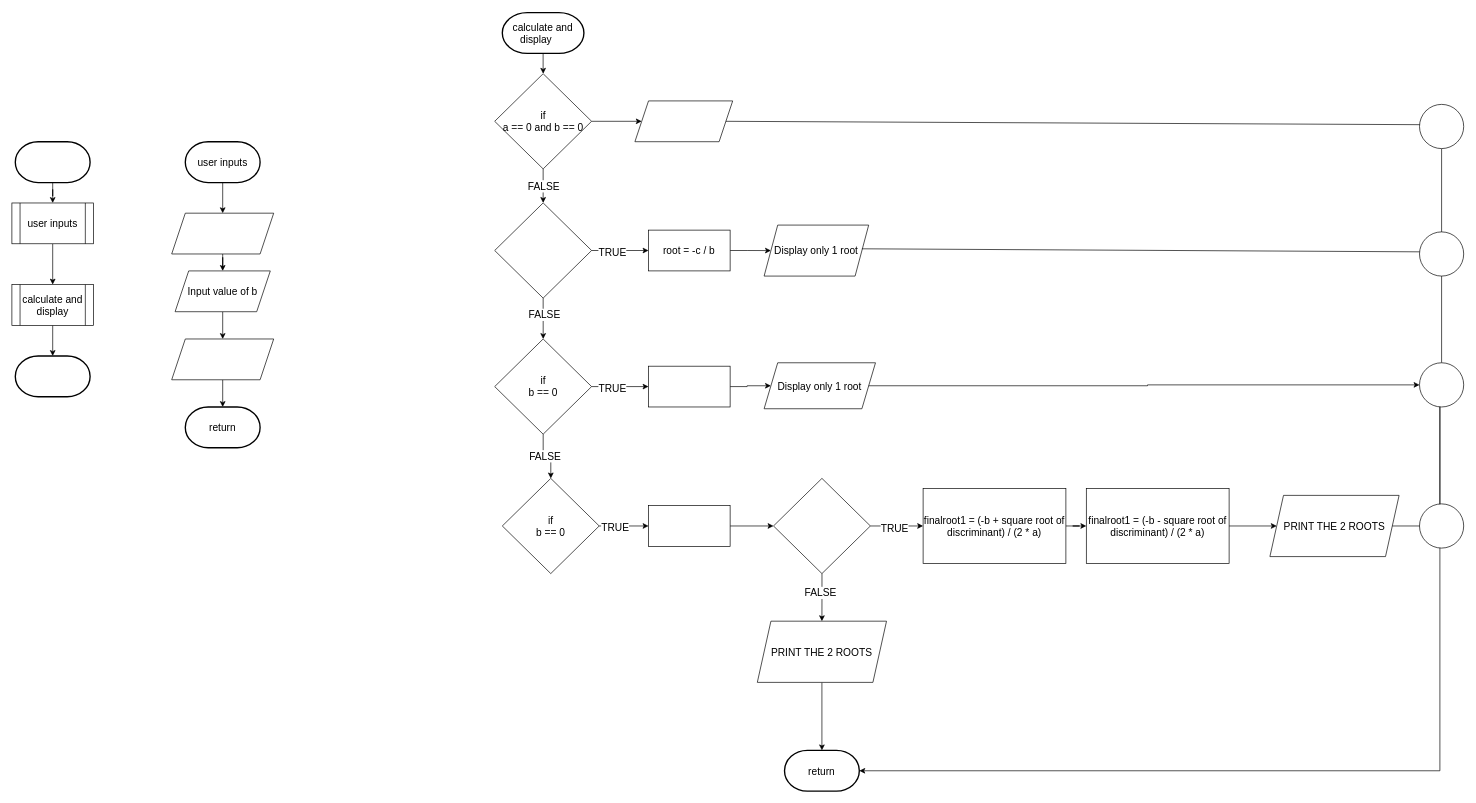
Some shapes in this 1476 by 803 pixel diagram are drawn without their labels. Here are the shapes that lost their labels. From the top down, the centre of each, then its label:
point (683, 121): Display "No Solution"
point (52, 162): Begin
point (222, 233): Input value of a
point (543, 250): if a == 0
point (52, 376): End
point (222, 359): Input value of c
point (689, 386): root = -c / a
point (689, 525): discriminant = b * b - 4 * a * c
point (821, 526): if discriminant >= 0
